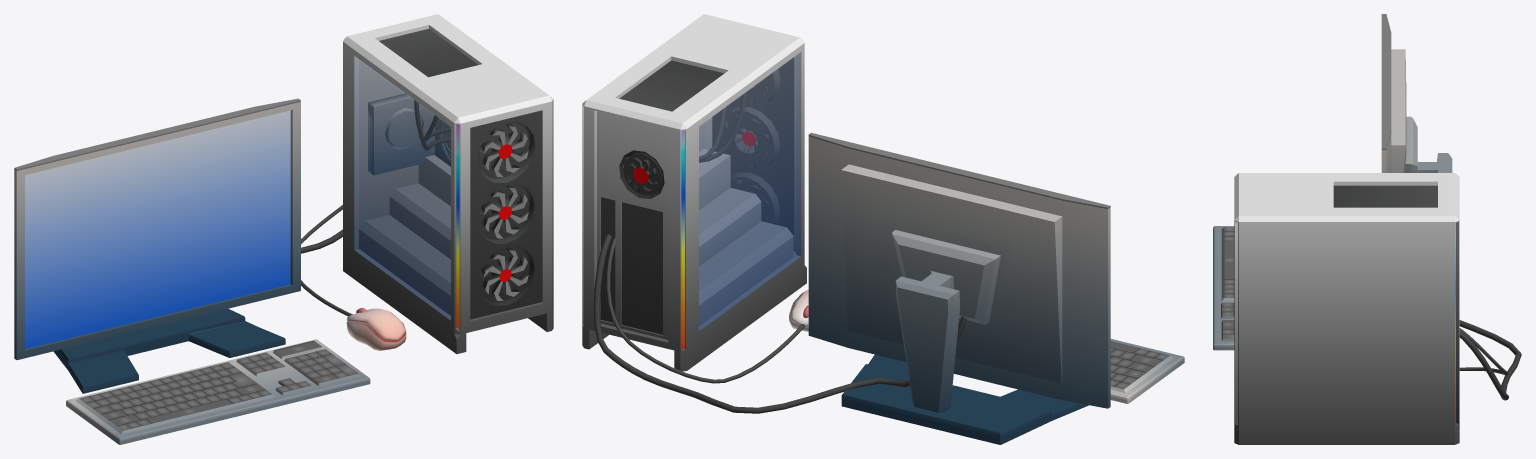
File: PC_Set.fbx
3 views of the same model, side by side, from view 1: azimuth 30°, elevation 25°; view 2: azimuth 150°, elevation 25°; view 3: azimuth 270°, elevation 25° (orthographic). The views are drawn at different scales.
Visible parts, largest first — view 1: Pc_Screen, Pc, Pc_Glass, Pc_Keyboard, Pc_Mouse; view 2: Pc_Screen, Pc, Pc_Glass, Pc_Screen_Cable, Pc_Keyboard, Pc_Mouse_Cable, Pc_Mouse; view 3: Pc, Pc_Screen, Pc_Keyboard, Pc_Screen_Cable, Pc_Mouse_Cable.
Boxes of the visible parts, x1,y1,x2,y2 form: Pc_Screen: (14, 98, 300, 393); Pc: (343, 14, 553, 354); Pc_Glass: (354, 57, 450, 319); Pc_Keyboard: (66, 339, 370, 444); Pc_Mouse: (346, 307, 406, 350); Pc_Screen: (808, 132, 1110, 444); Pc: (582, 14, 806, 371); Pc_Glass: (699, 52, 800, 330); Pc_Screen_Cable: (593, 234, 966, 413); Pc_Keyboard: (1110, 339, 1184, 403); Pc_Mouse_Cable: (606, 237, 804, 383); Pc_Mouse: (789, 290, 808, 331); Pc: (1234, 173, 1459, 444); Pc_Screen: (1381, 14, 1452, 172); Pc_Keyboard: (1213, 226, 1234, 350); Pc_Screen_Cable: (1459, 320, 1521, 400); Pc_Mouse_Cable: (1459, 328, 1508, 375).
Bounding box in the file's own units: 1.38 × 0.6688 × 0.8173.
